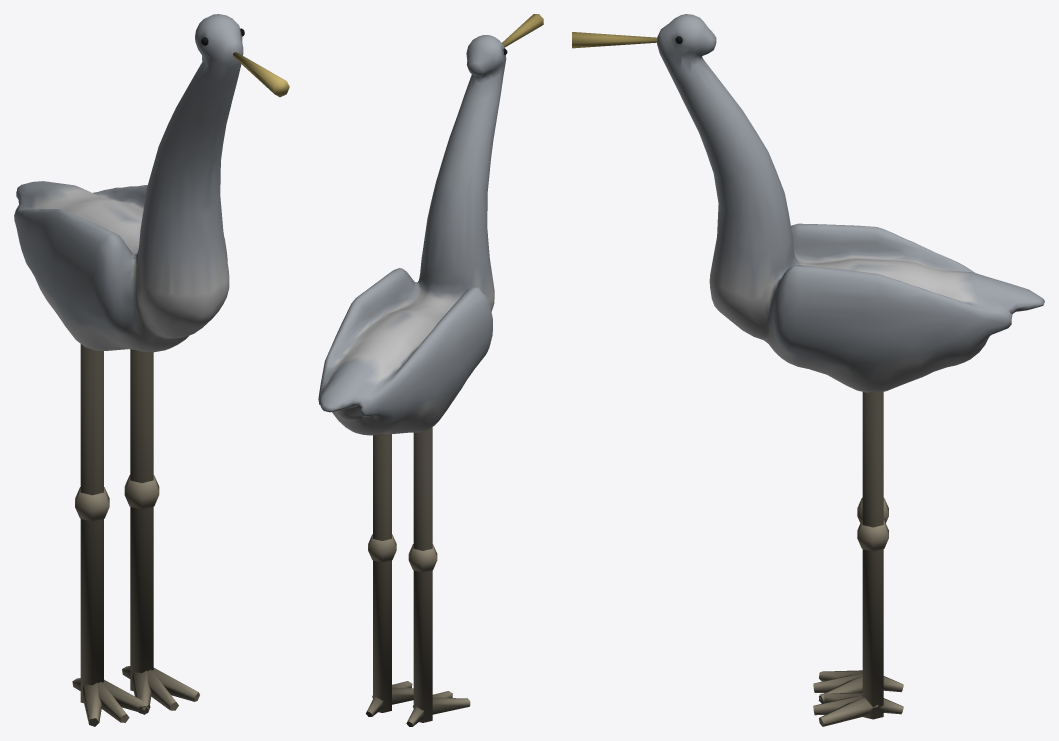
The model's file is reiher.glb.
3 renders of one model, left to right at view 1: azimuth 30°, elevation 25°; view 2: azimuth 150°, elevation 25°; view 3: azimuth 270°, elevation 25°, orthographic. The views are drawn at different scales.
Visible parts, largest first — view 1: lack; view 2: lack; view 3: lack.
Boxes of the visible parts, x1,y1,x2,y2 form: lack: [14, 14, 289, 726]; lack: [318, 14, 543, 726]; lack: [572, 14, 1044, 726].
Bounding box in the file's own units: 0.1747 × 0.9385 × 0.5853.
